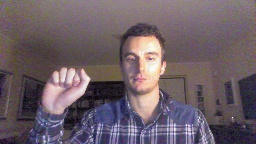Pugno: (38, 66, 92, 115)
